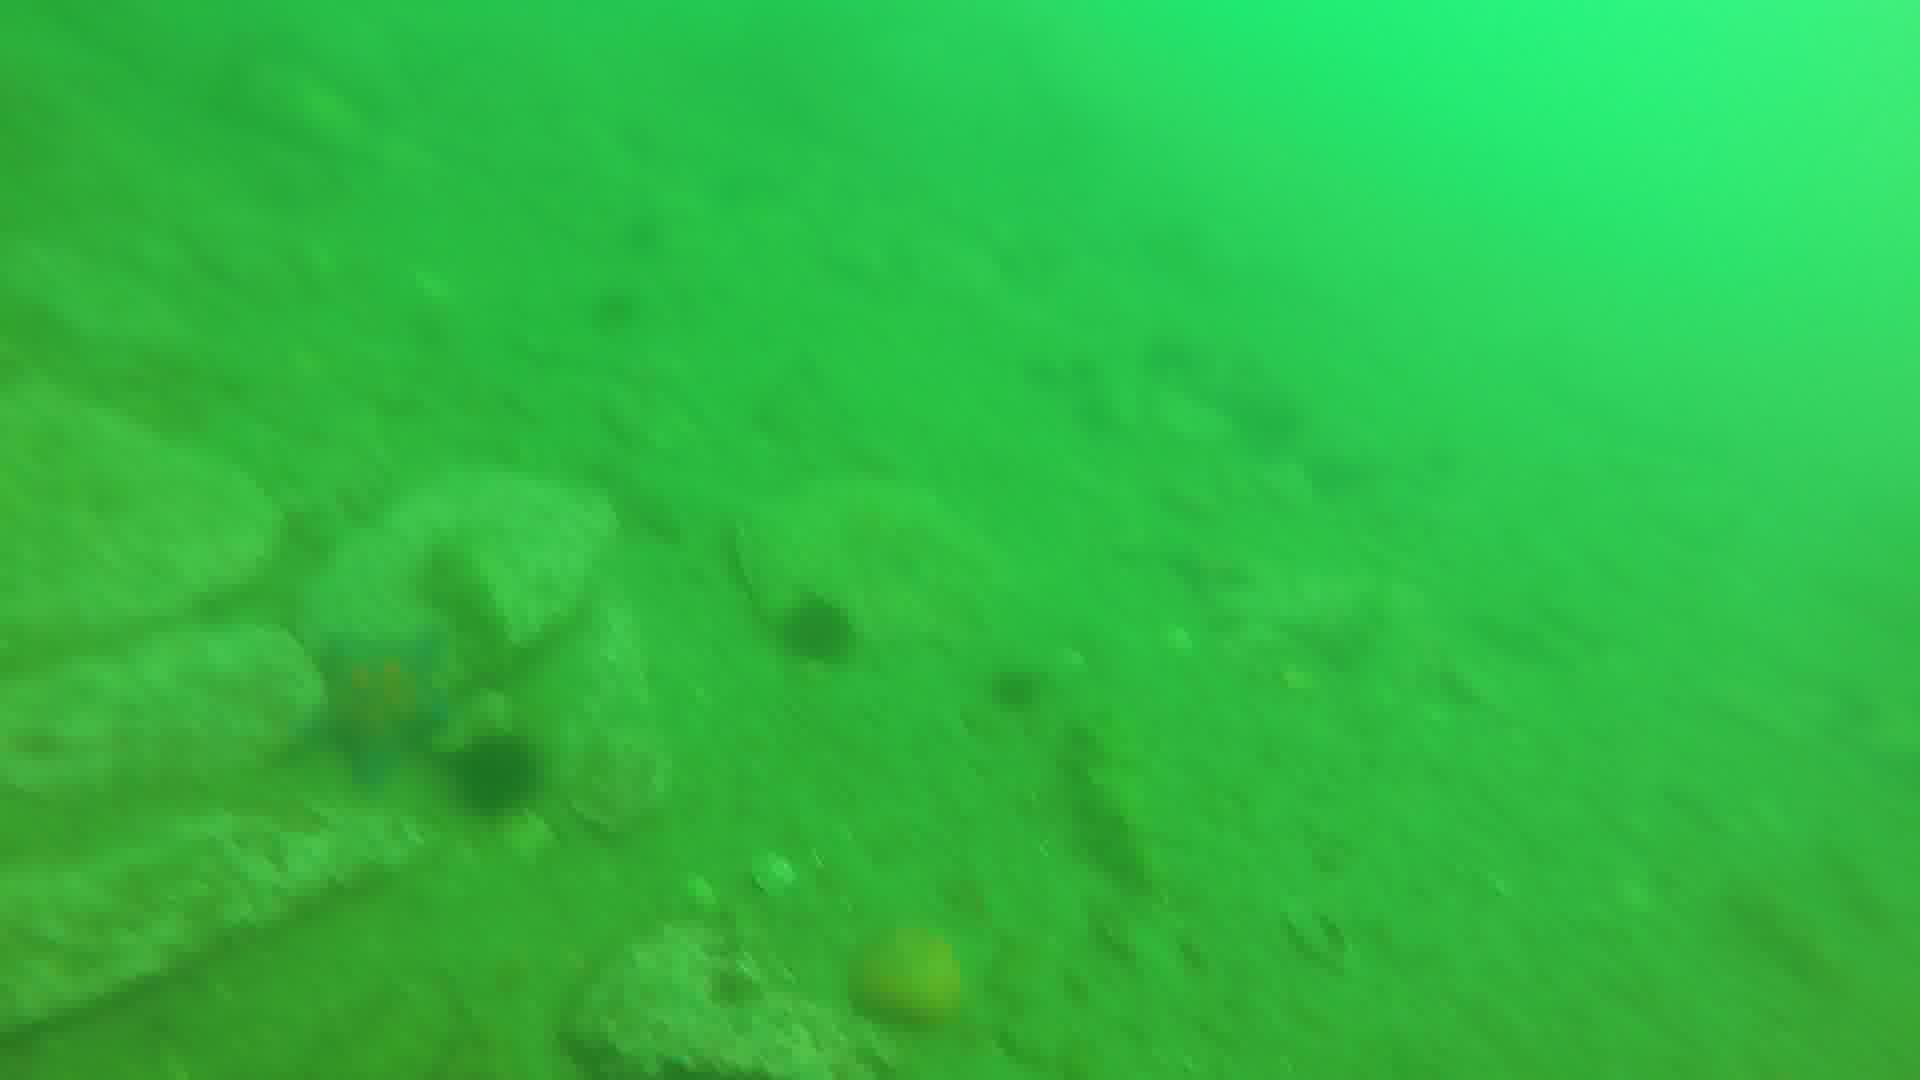echinus: (454, 736, 547, 810), (777, 593, 855, 662), (993, 663, 1048, 715)
holothurian: (1083, 717, 1174, 907)
starfish: (270, 632, 454, 791)
